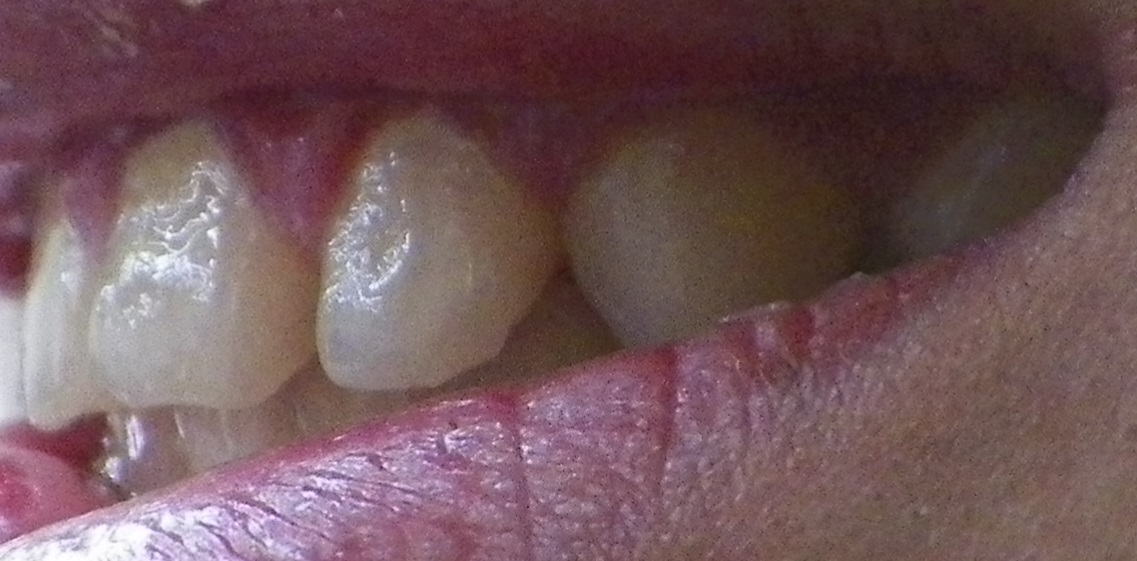boca: (28, 80, 1086, 497)
